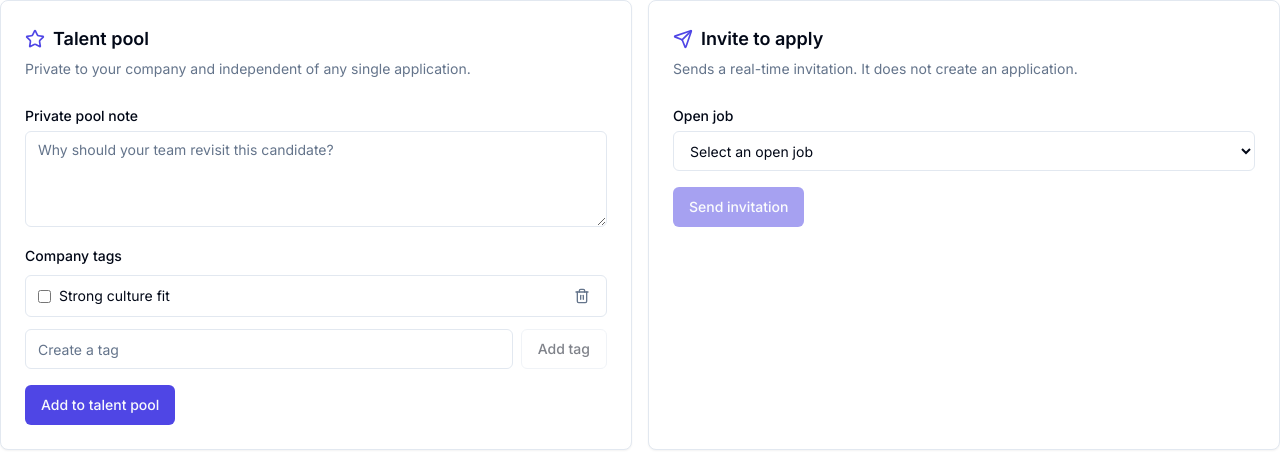
Scenario: TalentPoolSection › shows the server's clear message when a selected job has since closed
Select "Staff Engineer" in the dropdown labelled "Open job". click: (964, 151)
box: [673, 131, 1255, 171]
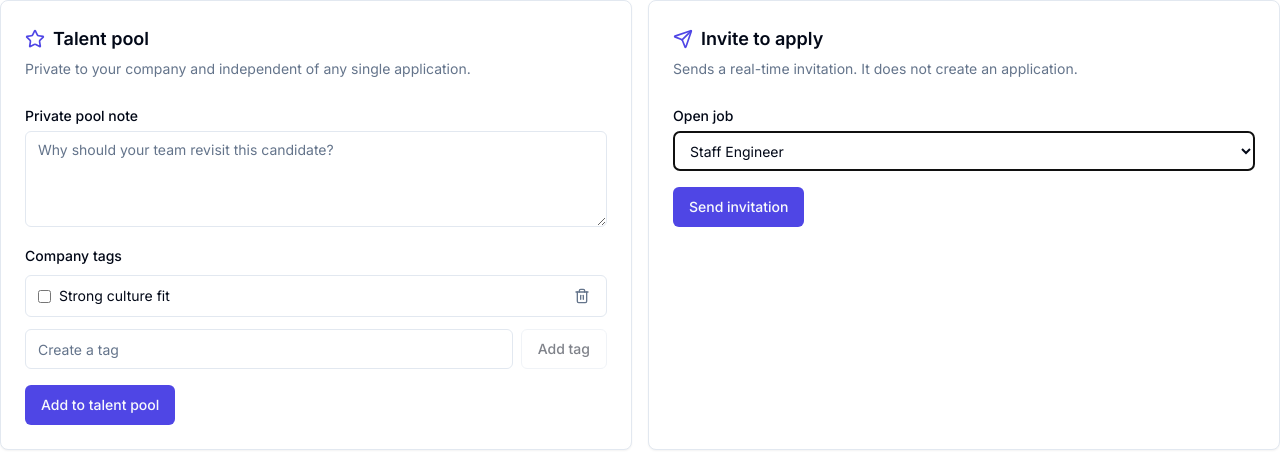
Click the button "Send invitation". click: (739, 207)
box: [673, 187, 804, 227]
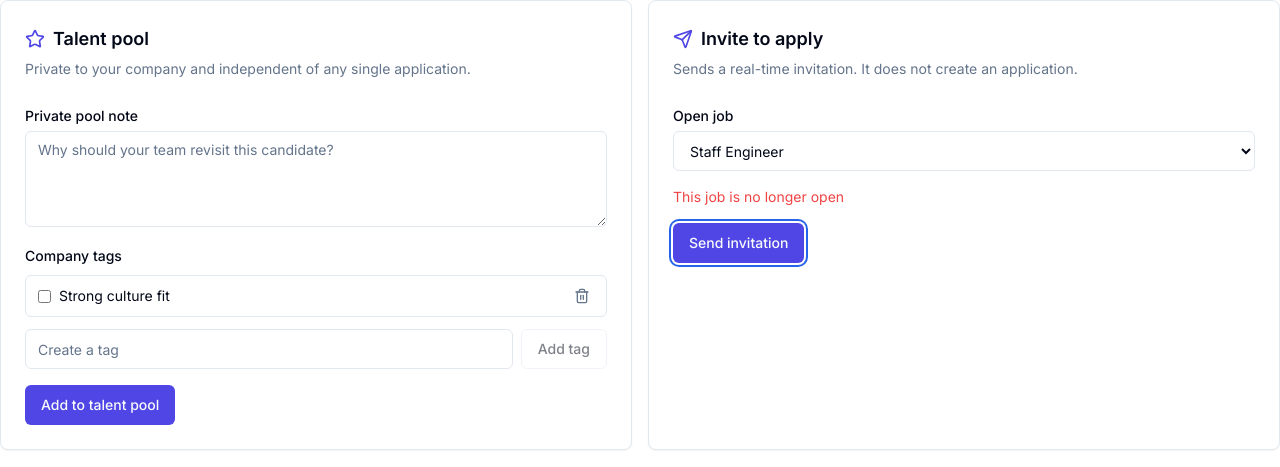
Result: the message reads "This job is no longer open" at [673, 188, 844, 205]
